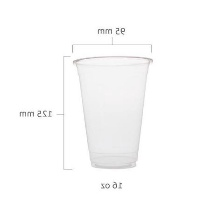glass: (59, 46, 160, 175)
